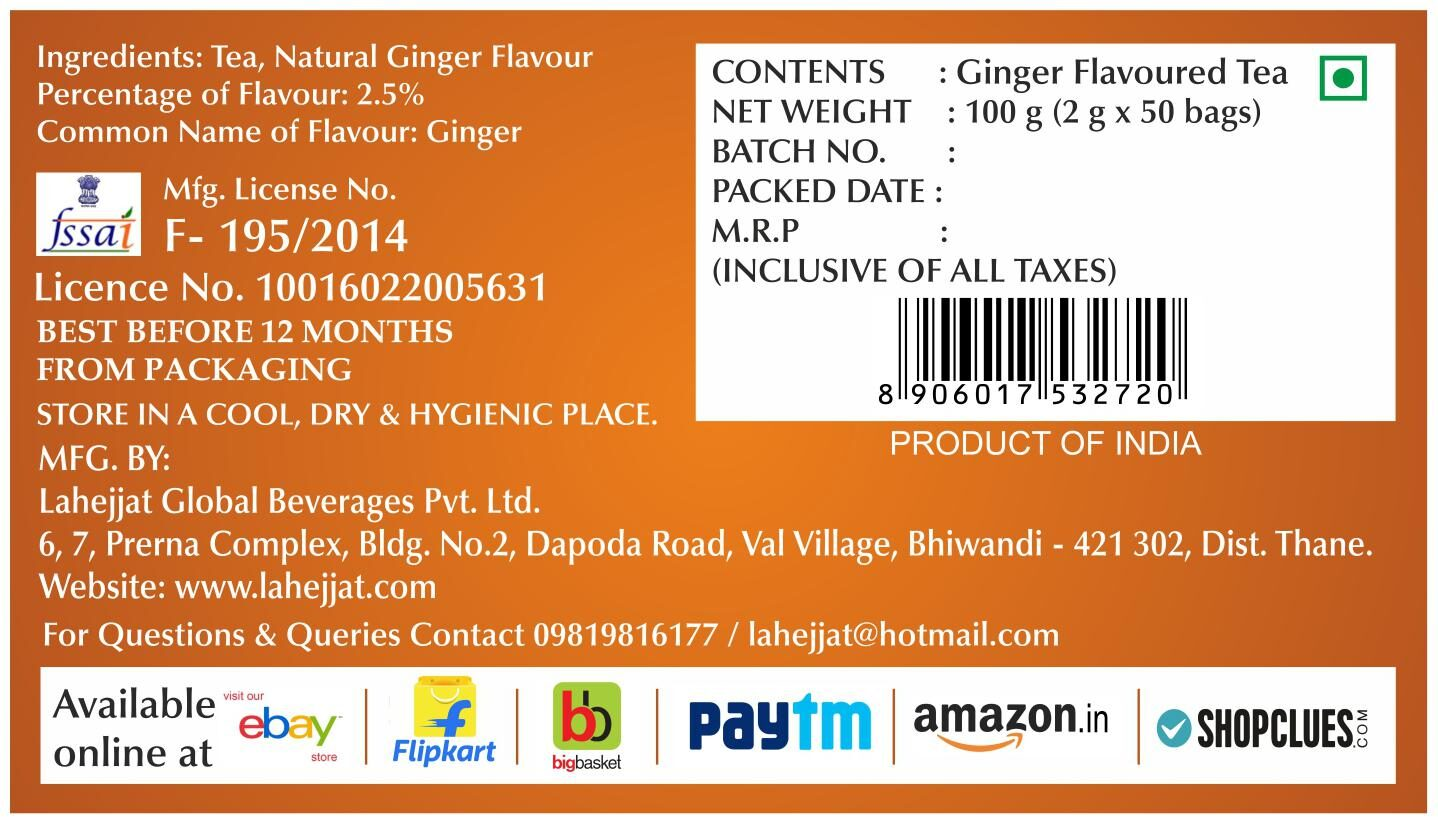fssai: (40, 207, 137, 254)
